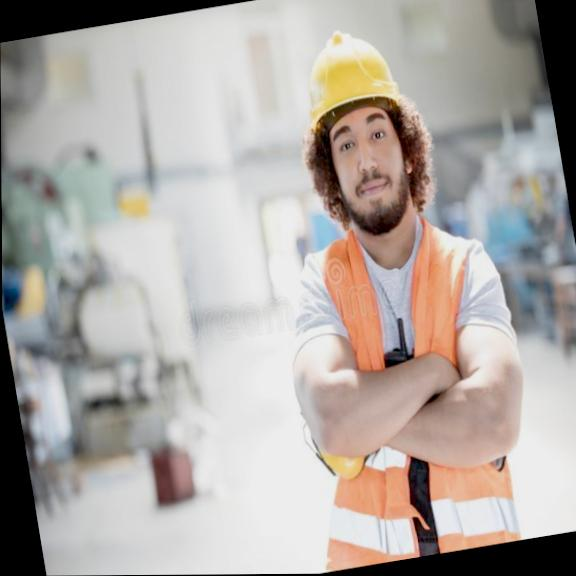safety_vest: (273, 201, 533, 571)
